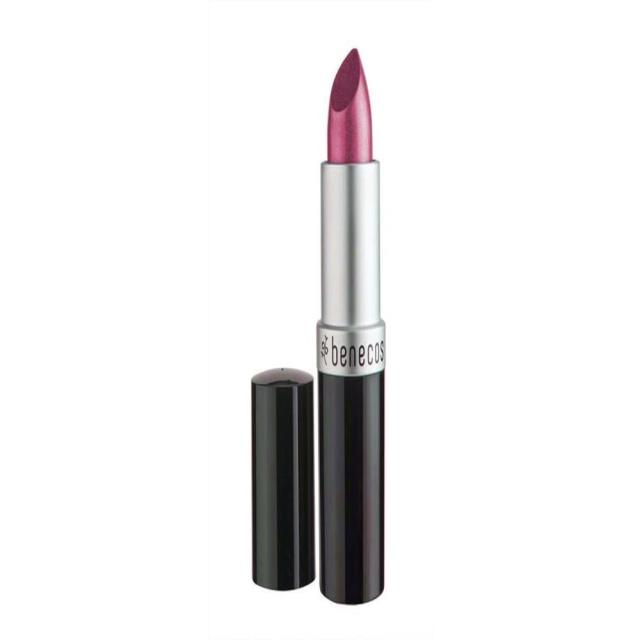lipstick: (300, 32, 398, 614)
